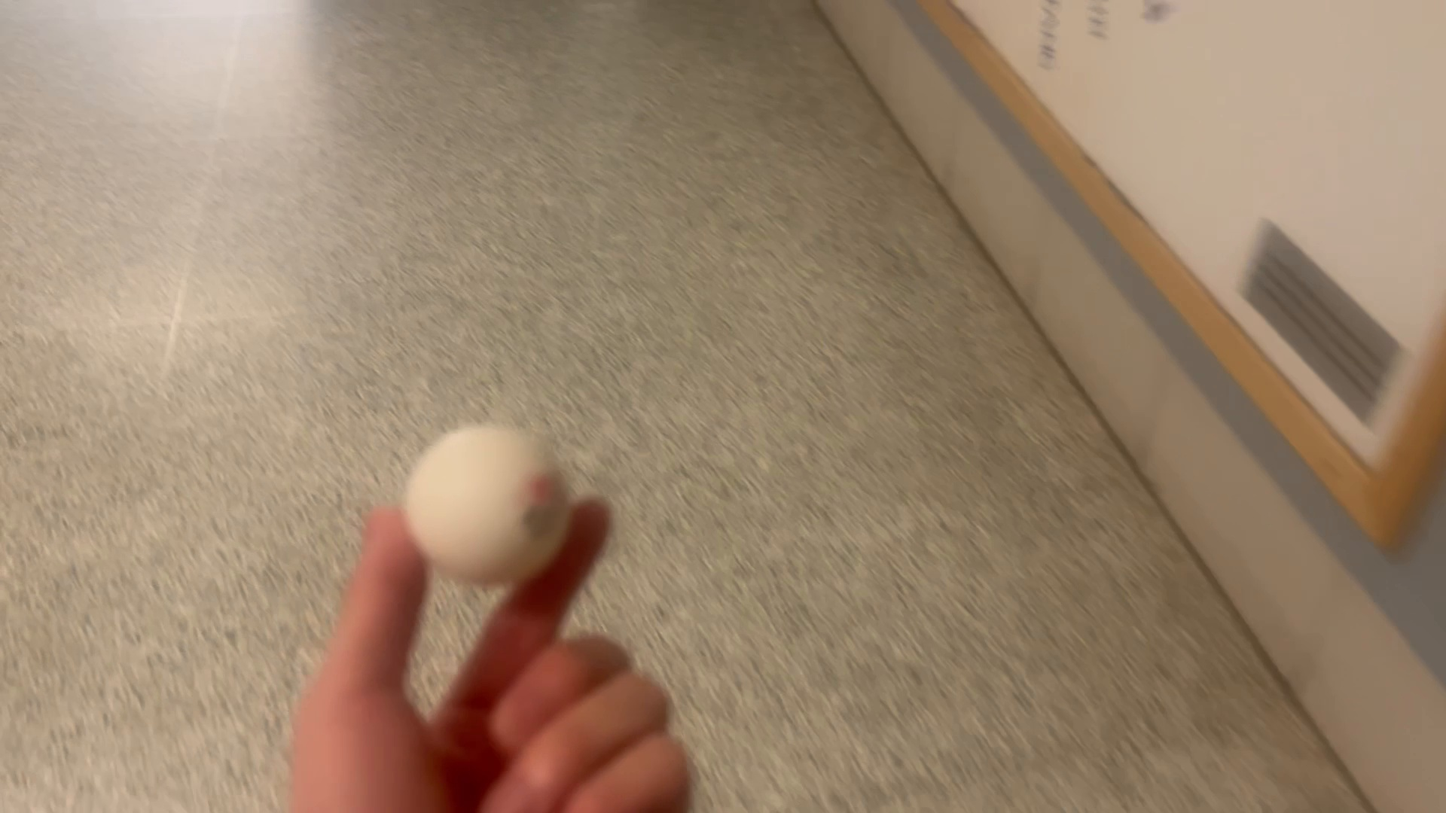Ball: (401, 425, 573, 582)
